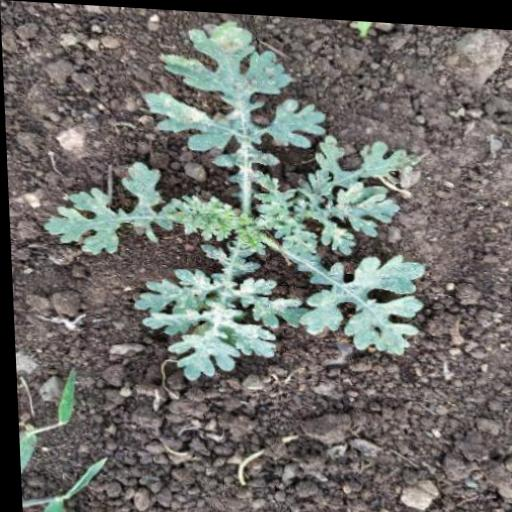weed: (36, 10, 447, 405)
